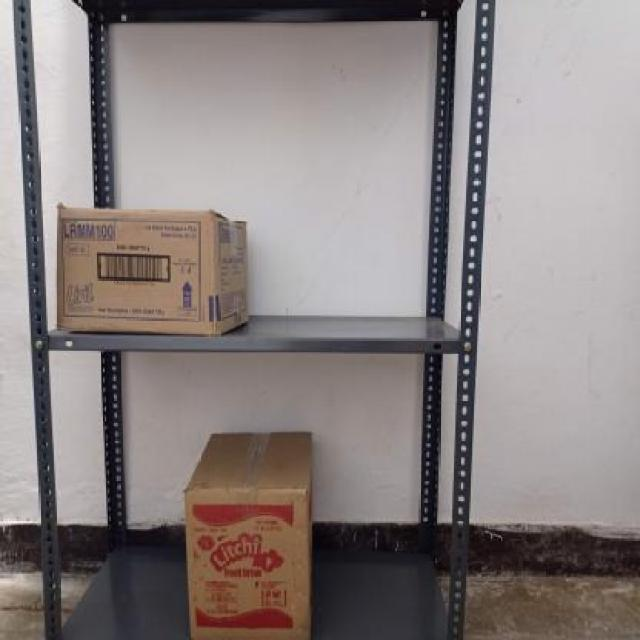box: (57, 210, 217, 333), (186, 487, 309, 640)
